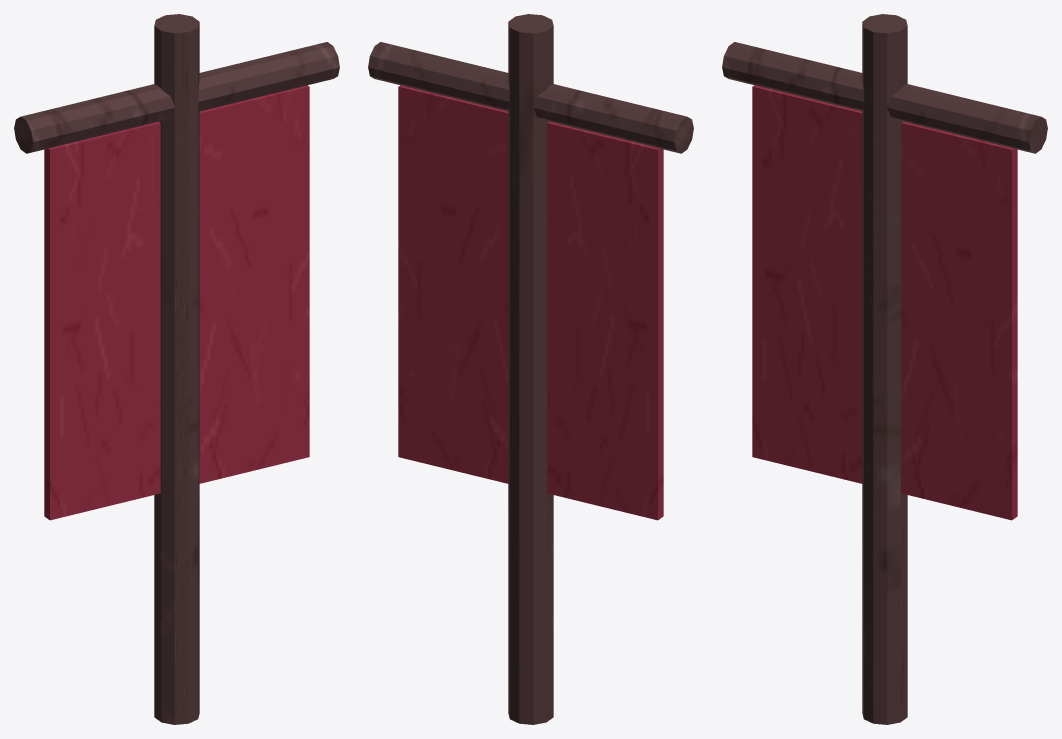
File: dojo_ritual_banner_lod1.glb
3 views of the same model, side by side, from view 1: azimuth 30°, elevation 25°; view 2: azimuth 150°, elevation 25°; view 3: azimuth 330°, elevation 25° (orthographic).
Parts seen in each view (by area): view 1: dojo_ritual_banner_002, dojo_ritual_banner_001, dojo_ritual_banner_000; view 2: dojo_ritual_banner_002, dojo_ritual_banner_001, dojo_ritual_banner_000; view 3: dojo_ritual_banner_002, dojo_ritual_banner_001, dojo_ritual_banner_000.
Boxes of the visible parts, x1=… form: dojo_ritual_banner_002: x1=44, y1=85, x2=309, y2=520; dojo_ritual_banner_001: x1=154, y1=14, x2=199, y2=724; dojo_ritual_banner_000: x1=14, y1=42, x2=339, y2=153; dojo_ritual_banner_002: x1=398, y1=85, x2=663, y2=520; dojo_ritual_banner_001: x1=508, y1=14, x2=553, y2=724; dojo_ritual_banner_000: x1=368, y1=42, x2=693, y2=153; dojo_ritual_banner_002: x1=752, y1=85, x2=1017, y2=520; dojo_ritual_banner_001: x1=862, y1=14, x2=907, y2=724; dojo_ritual_banner_000: x1=722, y1=42, x2=1047, y2=153.
Size of the model in its own units: 2.6 by 5.6 by 0.34.
Materials: 2 (2 with a texture image).
